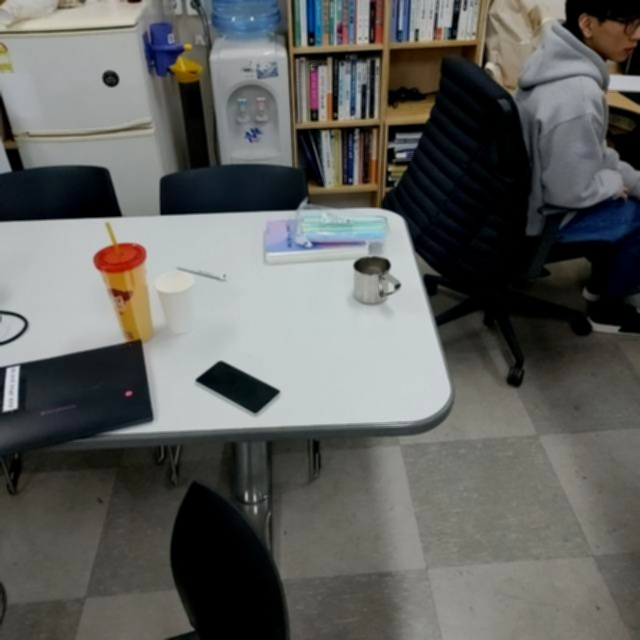cup: (350, 254, 400, 305)
phone: (195, 358, 280, 418)
